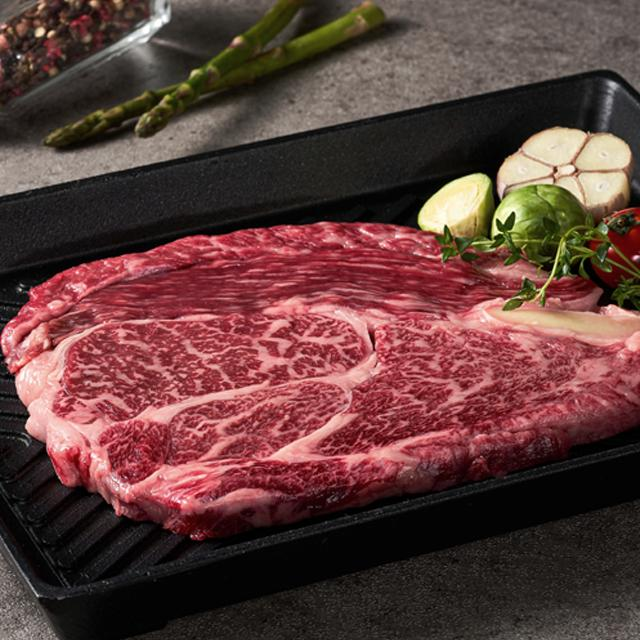beef: (53, 277, 445, 457)
